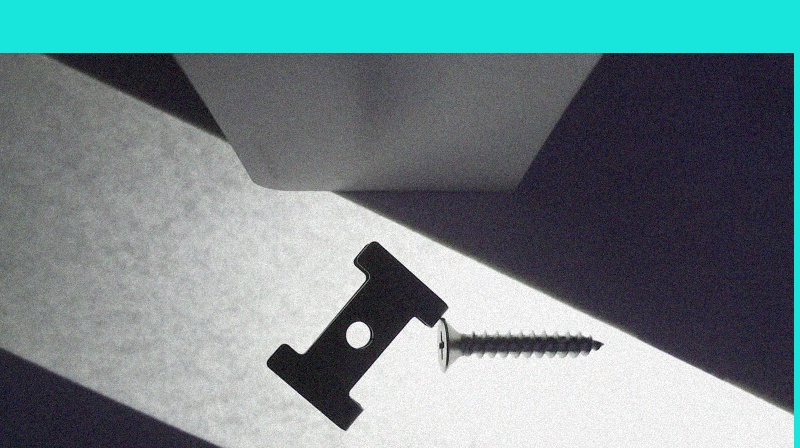O002: (265, 239, 447, 430)
S001: (441, 317, 606, 372)
